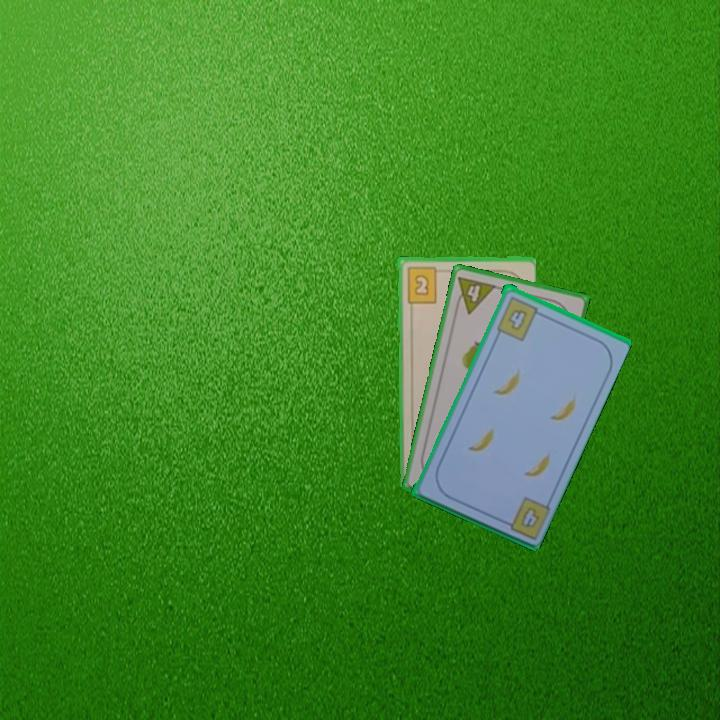2b: (403, 263, 445, 305)
4b: (497, 492, 552, 542), (493, 292, 545, 343)
4p: (451, 272, 499, 317)
